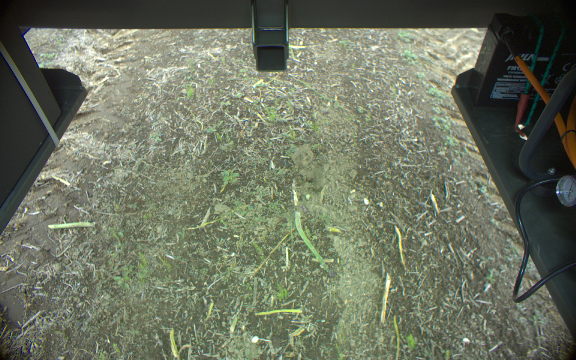aspa: (292, 209, 328, 271), (45, 219, 97, 232)
